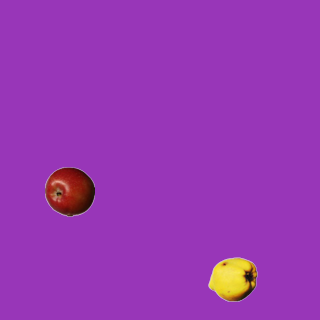Apple Braeburn: (44, 166, 94, 216)
Quince: (207, 254, 257, 304)
